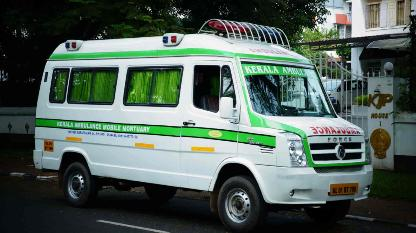priority: (32, 10, 374, 228)
